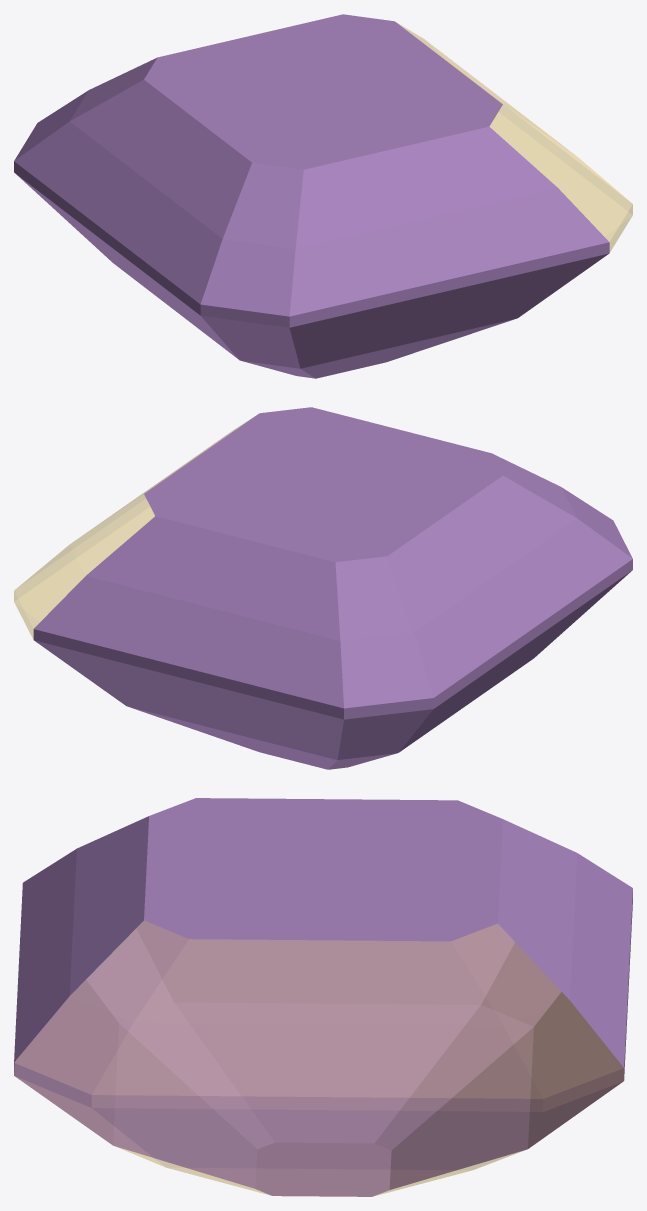
File: stone-ametrine.glb
The picture shows the model from 3 angles, top to bottom: view 1: azimuth 30°, elevation 25°; view 2: azimuth 150°, elevation 25°; view 3: azimuth 270°, elevation 25°; orthographic projection. The views are drawn at different scales.
Parts seen in each view (by area): view 1: Gemstone Ametrine; view 2: Gemstone Ametrine; view 3: Gemstone Ametrine.
Boxes of the visible parts, x1,y1,x2,y2 form: Gemstone Ametrine: (14, 14, 632, 378); Gemstone Ametrine: (14, 407, 632, 769); Gemstone Ametrine: (14, 798, 632, 1196).
Bounding box in the file's own units: 2.03 × 1.15 × 2.15.
